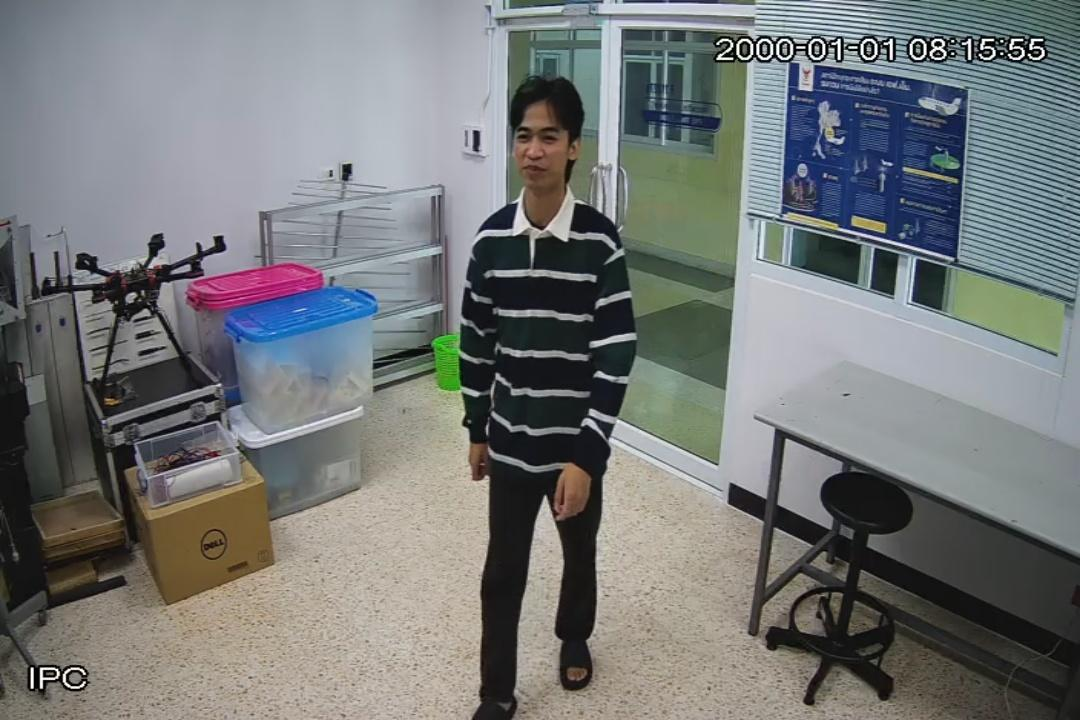normal: (457, 67, 638, 720)
